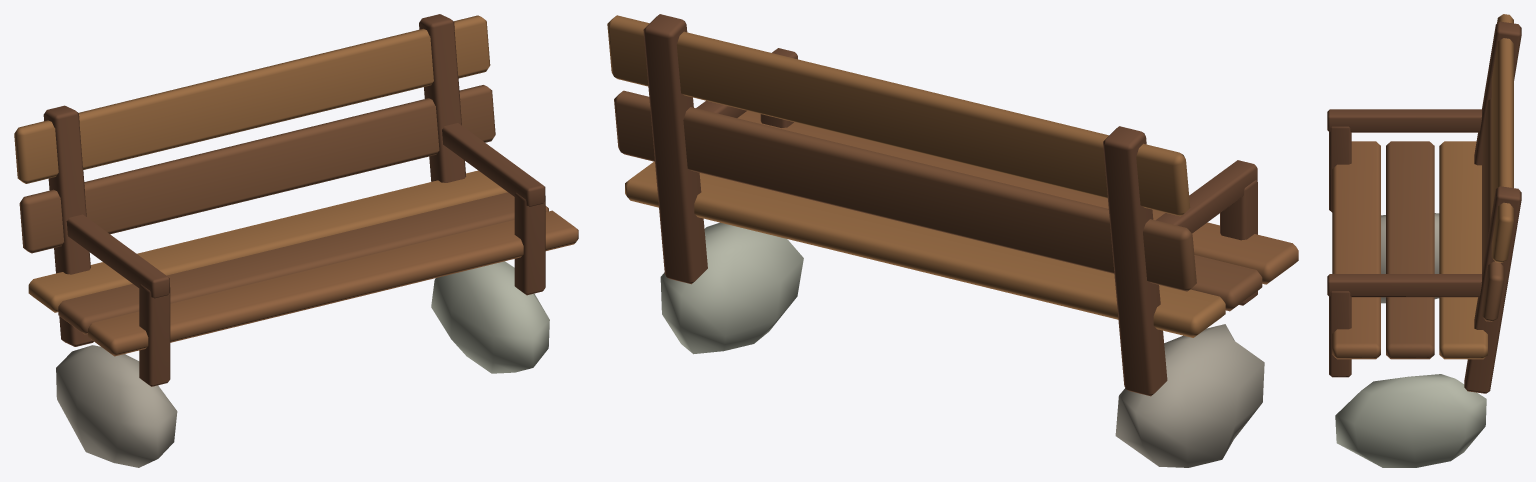
The model's file is bench.glb.
3 views of the same model, side by side, from view 1: azimuth 30°, elevation 25°; view 2: azimuth 150°, elevation 25°; view 3: azimuth 270°, elevation 25° (orthographic). The views are drawn at different scales.
Parts seen in each view (by area): view 1: Bench; view 2: Bench; view 3: Bench.
Boxes of the visible parts, <box> form: Bench: <box>14,14,578,467</box>; Bench: <box>607,14,1298,467</box>; Bench: <box>1327,14,1521,467</box>.
Size of the model in its own units: 1.5 by 0.9489 by 0.5979.
